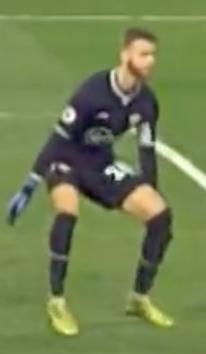goalkeeper: (5, 18, 206, 348)
